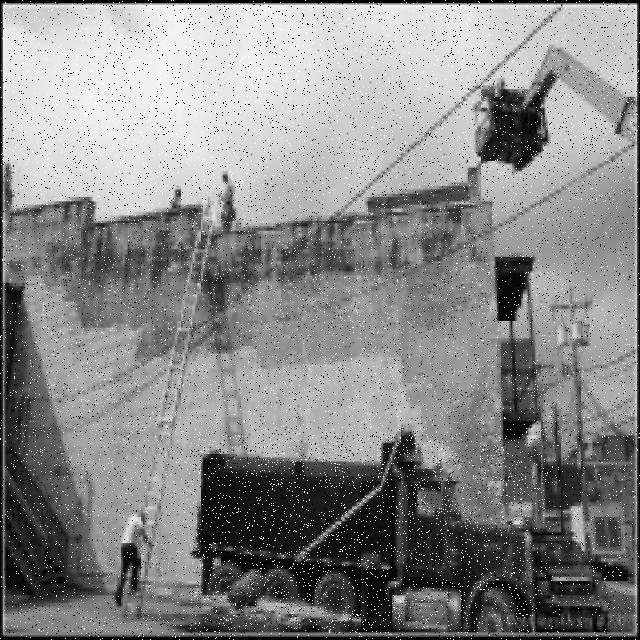Box Truck: (190, 434, 534, 633)
